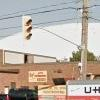Traffic light: (16, 12, 50, 52)
